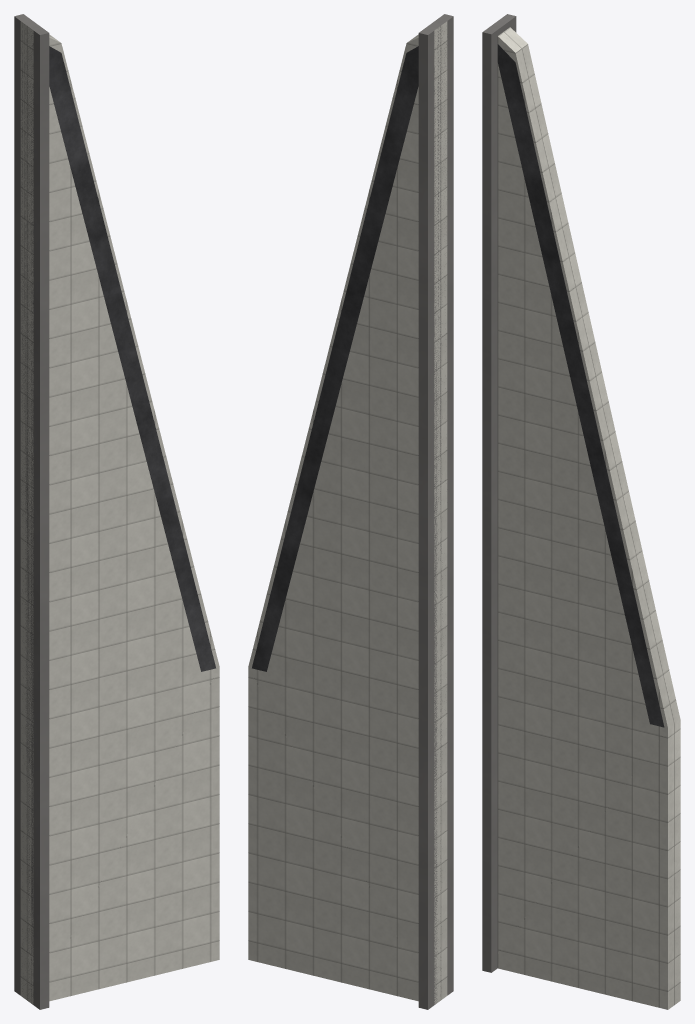
The model's file is aero04_strake_l.glb.
3 renders of one model, left to right at view 1: azimuth 30°, elevation 25°; view 2: azimuth 150°, elevation 25°; view 3: azimuth 330°, elevation 25°, orthographic. The views are drawn at different scales.
Parts seen in each view (by area): view 1: strake, root_flange, leading_edge; view 2: strake, root_flange, leading_edge; view 3: strake, root_flange, leading_edge.
Part boxes in pixels (x1,y1,x2,y2): strake: (20,21,219,1004); root_flange: (14,14,49,1009); leading_edge: (49,46,215,671); strake: (248,21,447,1004); root_flange: (418,14,453,1009); leading_edge: (252,46,418,671); strake: (497,27,680,1009); root_flange: (482,14,516,972); leading_edge: (497,44,664,727).
Size of the model in its own units: 1 by 5 by 0.24.
Materials: 3 (3 with a texture image).
